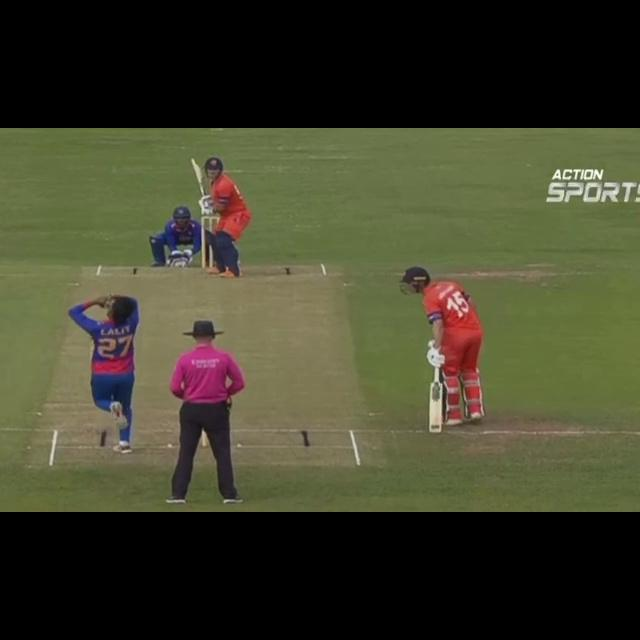umpire: (163, 314, 249, 509)
